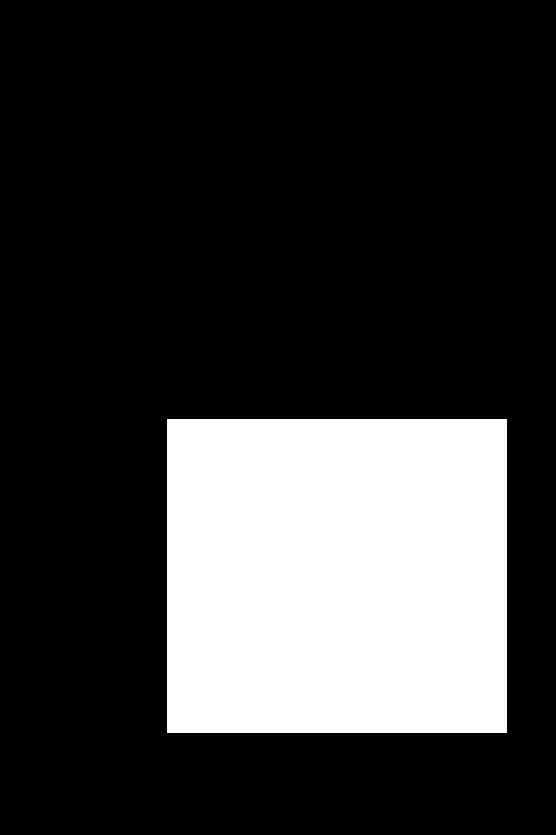table: (167, 419, 506, 732)
